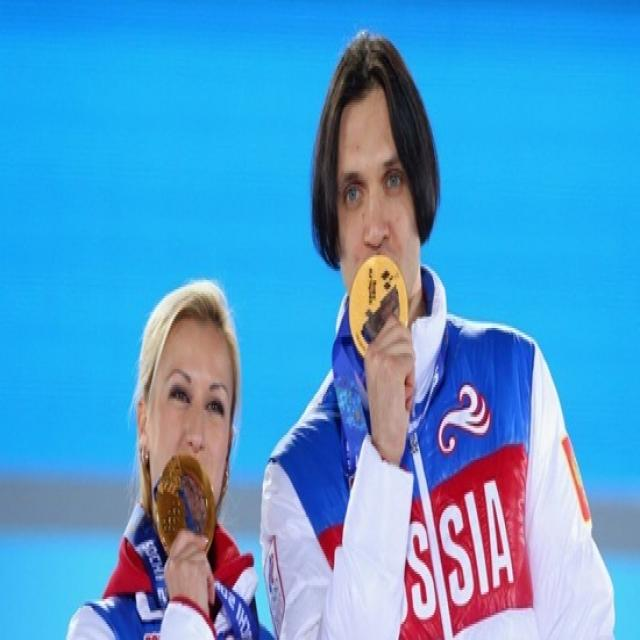nomask: (338, 97, 421, 313), (147, 326, 230, 538)
